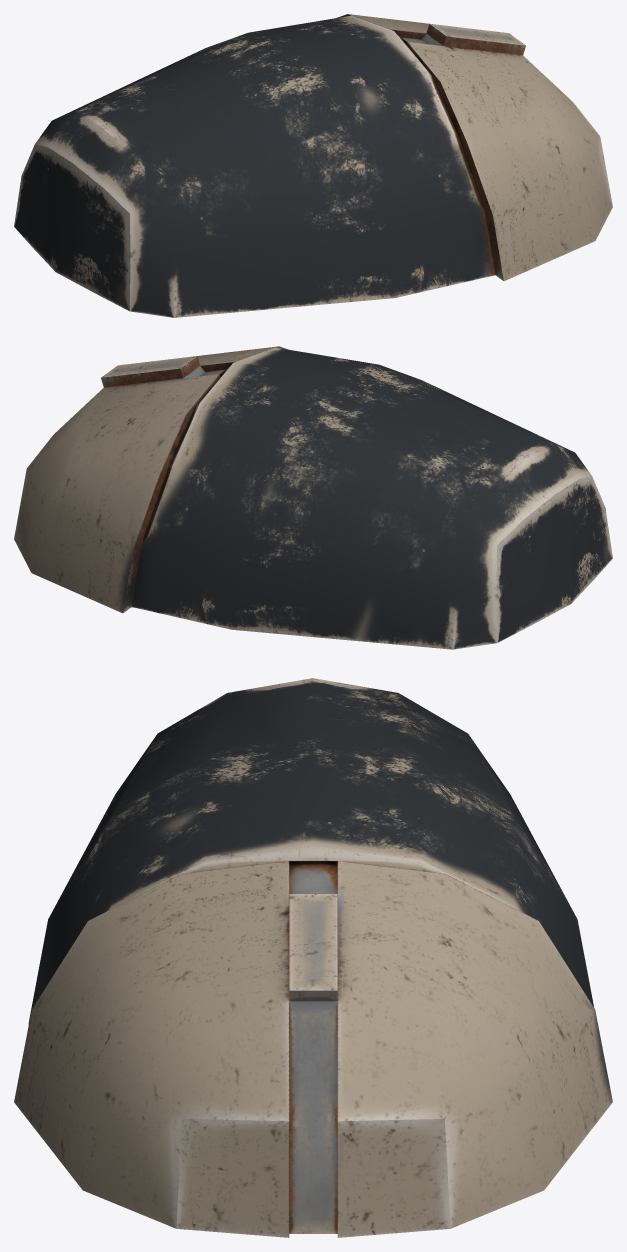
The model's file is computer-mouse.glb.
3 renders of one model, top to bottom at view 1: azimuth 30°, elevation 25°; view 2: azimuth 150°, elevation 25°; view 3: azimuth 270°, elevation 25°, orthographic. The views are drawn at different scales.
Visible parts, largest first — view 1: TheRig-Computer(Mouse); view 2: TheRig-Computer(Mouse); view 3: TheRig-Computer(Mouse).
Part boxes in pixels (box(x1,y1,x2,y2)): TheRig-Computer(Mouse): box(14, 14, 612, 317); TheRig-Computer(Mouse): box(14, 346, 612, 649); TheRig-Computer(Mouse): box(14, 678, 612, 1237).
Size of the model in its own units: 1.4 by 0.4912 by 0.9786.
1 material, 1 textured.
